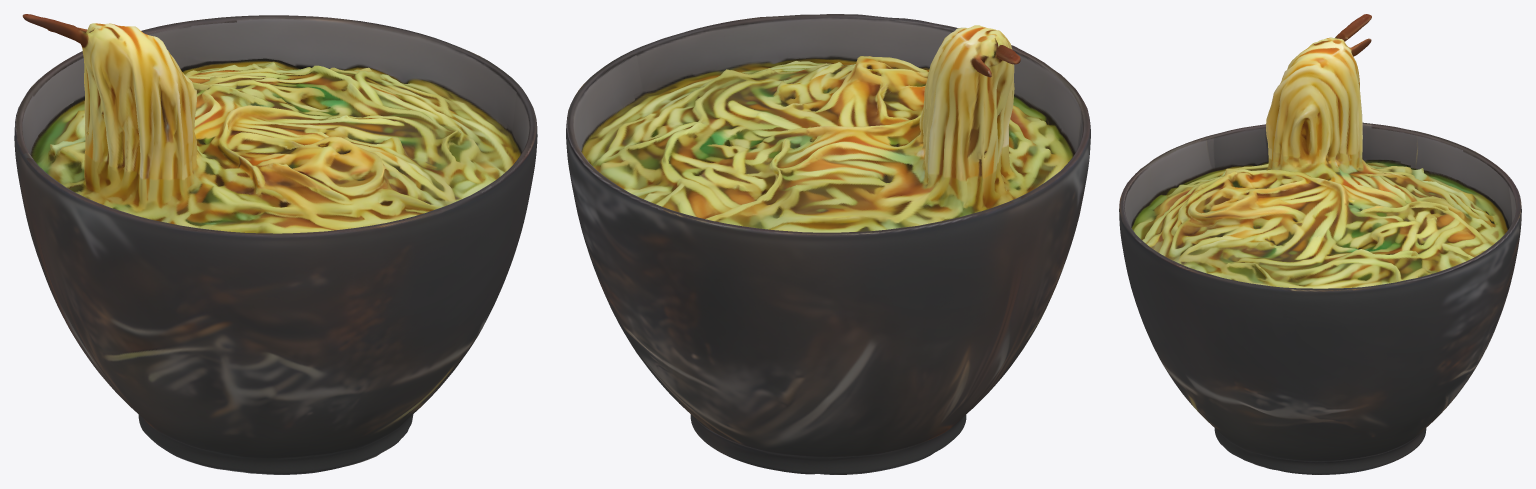
The model's file is chinese_dish.glb.
3 renders of one model, left to right at view 1: azimuth 30°, elevation 25°; view 2: azimuth 150°, elevation 25°; view 3: azimuth 270°, elevation 25°, orthographic. The views are drawn at different scales.
Visible parts, largest first — view 1: model; view 2: model; view 3: model.
Part boxes in pixels (bbox=[...]): model: bbox=[14, 14, 537, 474]; model: bbox=[566, 14, 1090, 474]; model: bbox=[1119, 14, 1521, 474].
Size of the model in its own units: 1.9 by 1.74 by 1.9.
1 material, 1 textured.
